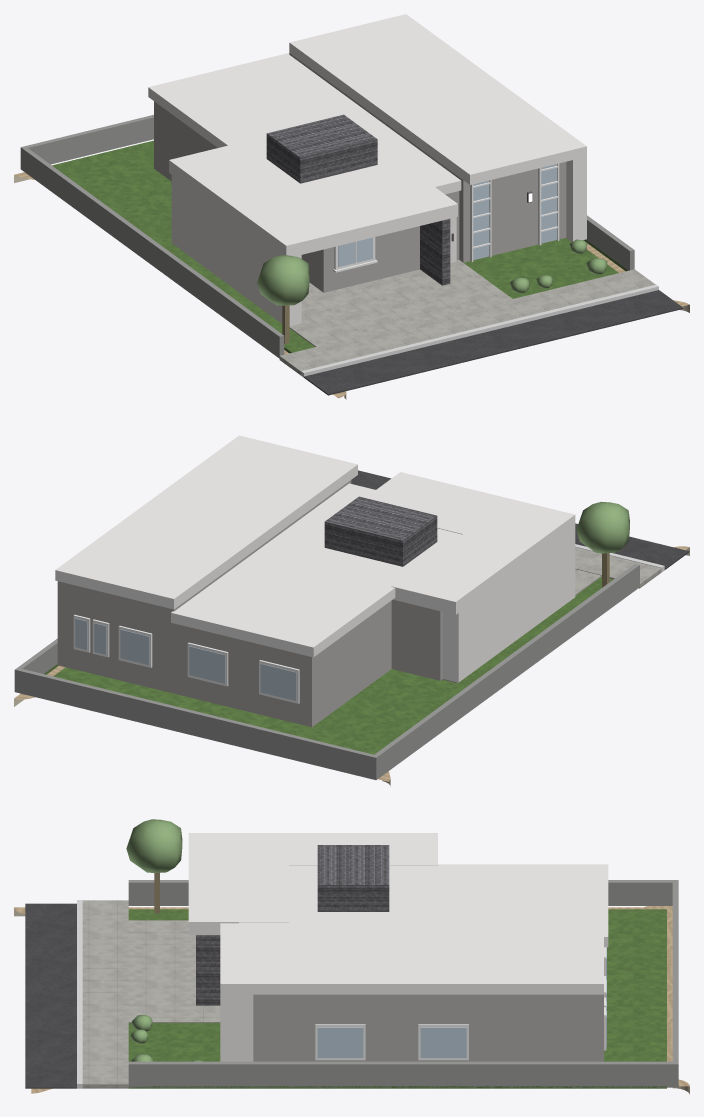
Rendered from residencial-04.glb.
3 renders of one model, top to bottom at view 1: azimuth 30°, elevation 25°; view 2: azimuth 150°, elevation 25°; view 3: azimuth 270°, elevation 25°, orthographic. The views are drawn at different scales.
Visible parts, largest first — view 1: branco, concreto, grama, asfalto, pedra; view 2: branco, grama, pedra, asfalto, concreto; view 3: branco, concreto, grama, asfalto, pedra, base.
Boxes of the visible parts, <box> form: branco: <box>14,14,689,399</box>; concreto: <box>279,260,655,375</box>; grama: <box>52,140,628,353</box>; asfalto: <box>304,290,683,395</box>; pedra: <box>266,114,450,285</box>; branco: <box>14,435,689,786</box>; grama: <box>44,576,613,754</box>; pedra: <box>324,496,437,566</box>; asfalto: <box>351,470,689,569</box>; concreto: <box>442,547,661,682</box>; branco: <box>14,819,689,1094</box>; concreto: <box>82,900,220,1088</box>; grama: <box>128,909,666,1088</box>; asfalto: <box>25,903,76,1088</box>; pedra: <box>196,845,389,1005</box>; base: <box>14,906,689,1093</box>.
Size of the model in its own units: 16 by 4.85 by 23.6.
Materials: 7 (7 with a texture image).
